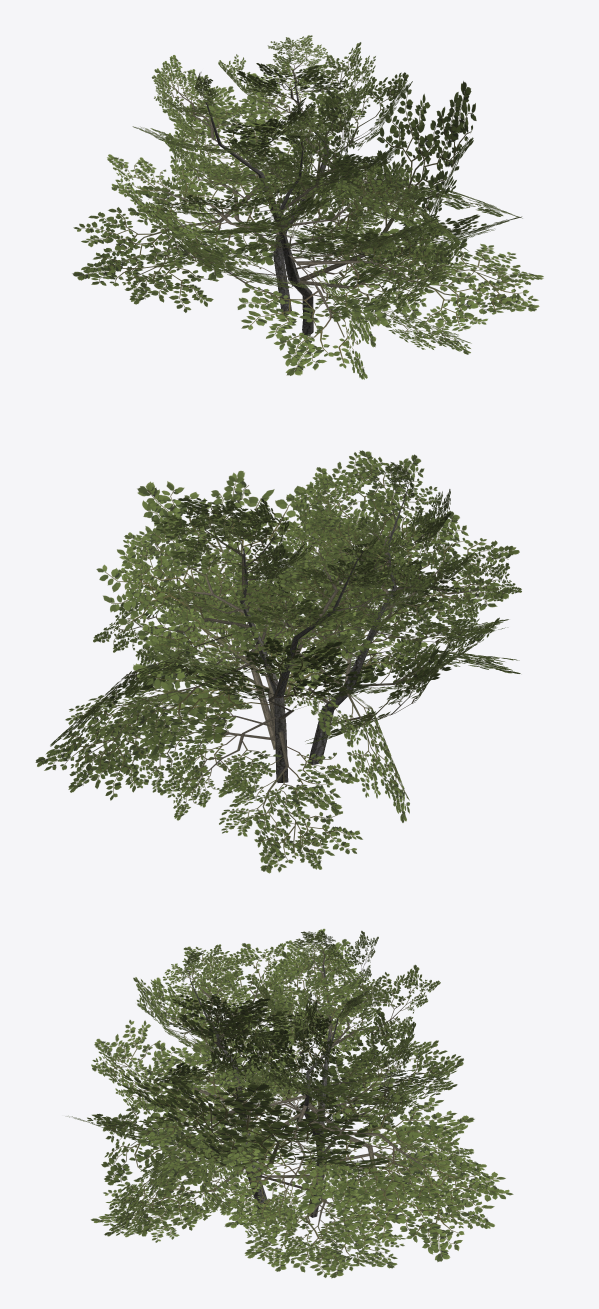
Rendered from Bush5.gltf.
The picture shows the model from 3 angles, top to bottom: view 1: azimuth 30°, elevation 25°; view 2: azimuth 150°, elevation 25°; view 3: azimuth 270°, elevation 25°; orthographic projection. The views are drawn at different scales.
Visible parts, largest first — view 1: Bush-05_17; view 2: Bush-05_17; view 3: Bush-05_17.
Part boxes in pixels (left/top/right/bottom): Bush-05_17: left=72, top=35, right=543, bottom=379; Bush-05_17: left=35, top=450, right=521, bottom=873; Bush-05_17: left=66, top=928, right=513, bottom=1278.
Bounding box in the file's own units: 128 × 67.54 × 139.
Materials: 6 (6 with a texture image).
